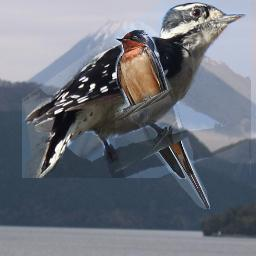Swallow: (115, 28, 210, 209)
Woodpecker: (22, 0, 251, 178)
